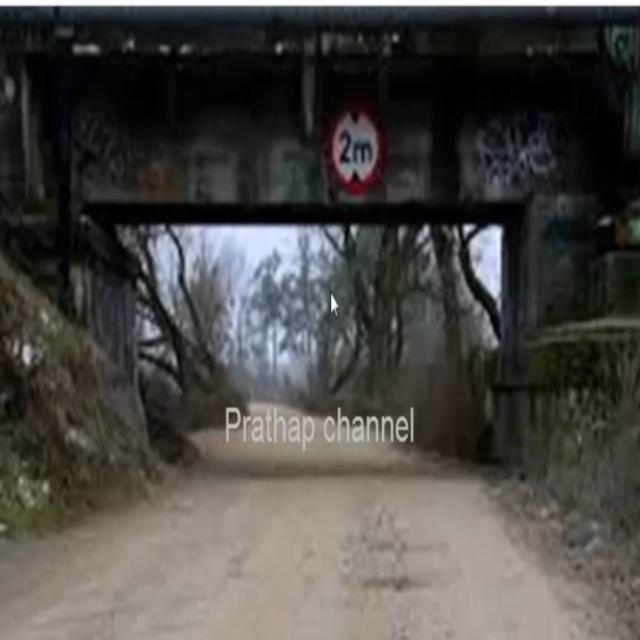width_limit: (326, 108, 384, 190)
